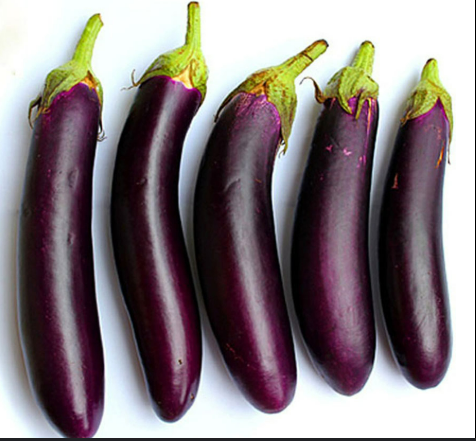catim: (199, 17, 307, 421), (19, 10, 117, 437), (286, 27, 380, 404), (124, 3, 204, 426), (389, 54, 456, 408)
